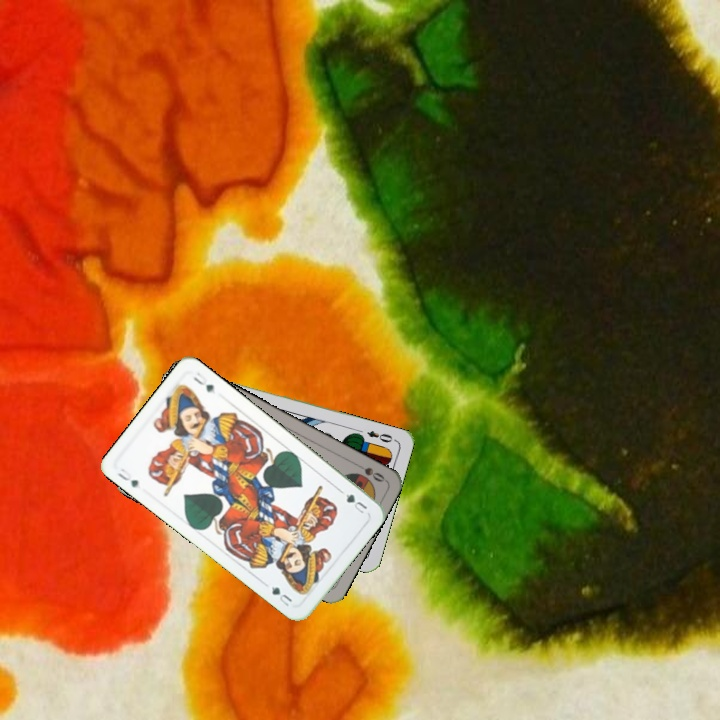EO: (363, 426, 398, 445)
GU: (336, 486, 370, 516), (114, 464, 141, 491)
SO: (350, 459, 387, 485)
